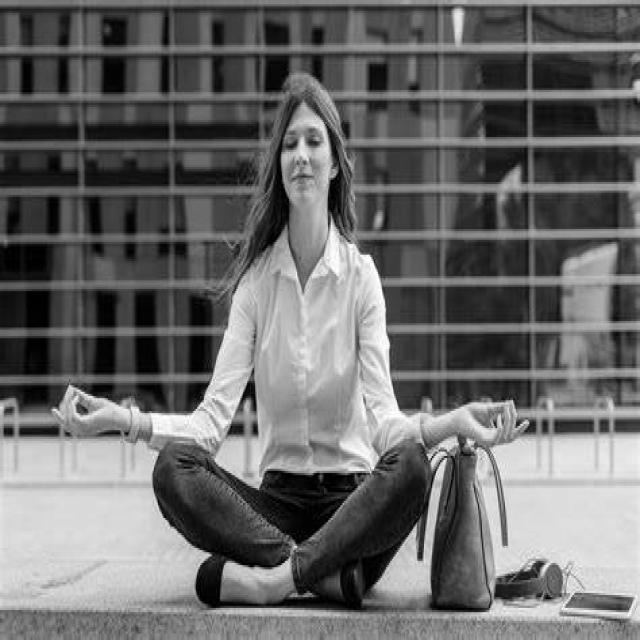sit: (172, 61, 418, 614)
